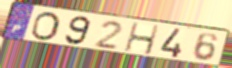2: (93, 20, 125, 51)
4: (159, 27, 184, 59)
6: (192, 32, 219, 62)
9: (64, 15, 93, 45)
H: (123, 22, 161, 56)
O: (29, 11, 62, 42)
